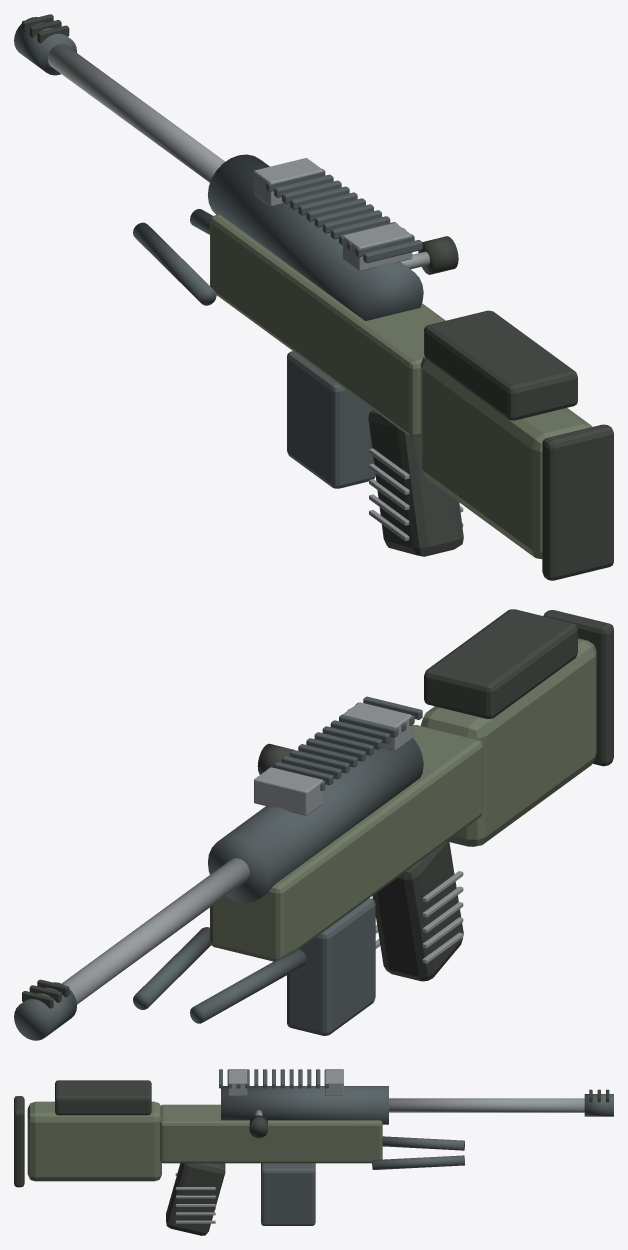
Rendered from awm.fbx.
The picture shows the model from 3 angles, top to bottom: view 1: azimuth 30°, elevation 25°; view 2: azimuth 150°, elevation 25°; view 3: azimuth 270°, elevation 25°; orthographic projection. The views are drawn at different scales.
Parts seen in each view (by area): view 1: AWM chassis, Adjustable buttstock, Receiver, Cheek rest, Rubber shoulder pad, Detachable magazine, Pistol grip, Free floated barrel, Folded bipod, Scope rail mount, Scope rail mount.001, Muzzle brake (+1 smaller); view 2: AWM chassis, Adjustable buttstock, Receiver, Cheek rest, Detachable magazine, Pistol grip, Free floated barrel, Rubber shoulder pad, Scope rail mount.001, Folded bipod, Muzzle brake, Folded bipod.001 (+2 smaller); view 3: AWM chassis, Adjustable buttstock, Receiver, Cheek rest, Detachable magazine, Free floated barrel, Pistol grip, Folded bipod.001, Rubber shoulder pad, Folded bipod, Muzzle brake, Scope rail mount (+2 smaller).
Boxes of the visible parts, x1,y1,x2,y2 form: AWM chassis: (210,214,445,437); Adjustable buttstock: (420,356,592,559); Receiver: (208,154,423,320); Cheek rest: (424,310,577,420); Rubber shoulder pad: (542,424,613,580); Detachable magazine: (287,351,375,488); Pistol grip: (368,410,463,556); Free floated barrel: (47,44,225,182); Folded bipod: (133,222,216,305); Scope rail mount: (342,223,412,271); Scope rail mount.001: (254,158,323,206); Muzzle brake: (14,17,76,75); AWM chassis: (210,725,483,961); Adjustable buttstock: (420,638,596,846); Receiver: (208,738,423,903); Cheek rest: (424,609,577,718); Detachable magazine: (287,898,375,1035); Pistol grip: (372,840,463,981); Free floated barrel: (62,858,249,1004); Rubber shoulder pad: (543,610,613,766); Scope rail mount.001: (254,767,323,815); Folded bipod: (190,949,306,1023); Muzzle brake: (14,982,76,1040); Folded bipod.001: (133,927,210,1009); AWM chassis: (160,1104,382,1163); Adjustable buttstock: (27,1101,161,1181); Receiver: (221,1086,388,1124); Cheek rest: (55,1080,151,1115); Detachable magazine: (261,1163,315,1225); Free floated barrel: (389,1098,584,1112); Pistol grip: (166,1163,225,1235); Folded bipod.001: (372,1155,464,1169); Rubber shoulder pad: (14,1096,24,1187); Folded bipod: (382,1136,464,1150); Muzzle brake: (584,1094,613,1116); Scope rail mount: (228,1069,247,1095).
Bounding box in the file's own units: 21.76 × 40.88 × 143.
